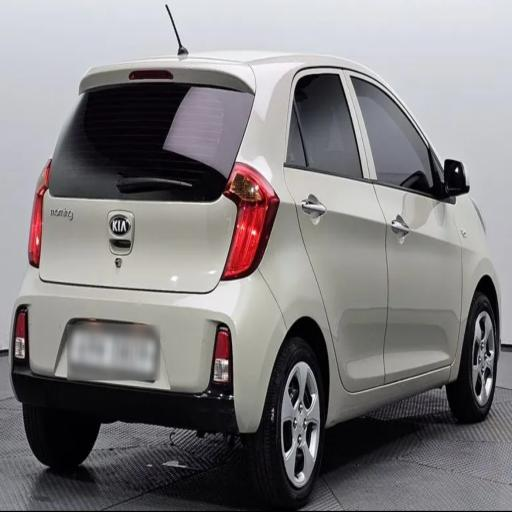dent: (308, 275, 466, 394)
